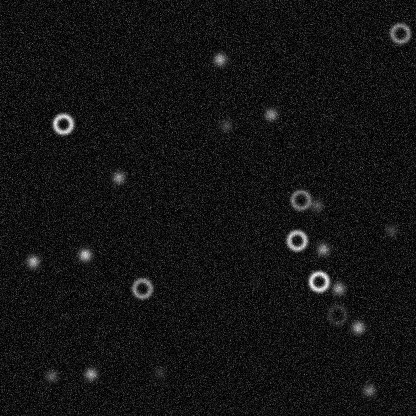Ring: (288, 187, 312, 211), (130, 276, 154, 300), (325, 302, 349, 326), (50, 111, 74, 135), (284, 228, 308, 252), (306, 269, 330, 293), (388, 21, 412, 45)
Spot: (217, 117, 233, 133), (76, 246, 92, 262), (43, 367, 59, 383), (314, 241, 330, 257), (308, 197, 324, 213), (211, 51, 227, 67), (330, 280, 346, 296), (360, 382, 376, 398), (24, 253, 40, 269), (110, 169, 126, 185), (82, 365, 98, 381), (151, 363, 167, 379), (262, 106, 278, 122), (382, 222, 398, 238), (349, 319, 365, 335)
